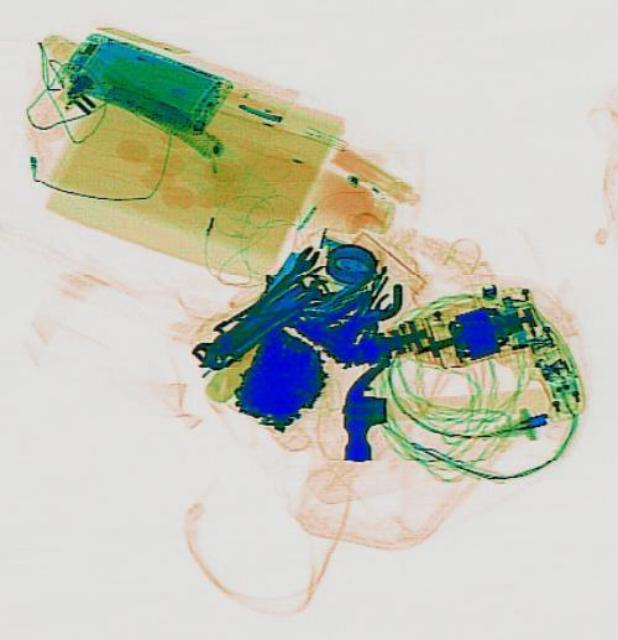Wrench: (234, 240, 322, 322), (187, 317, 256, 365)
